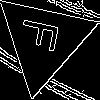F: (18, 16, 69, 56)
